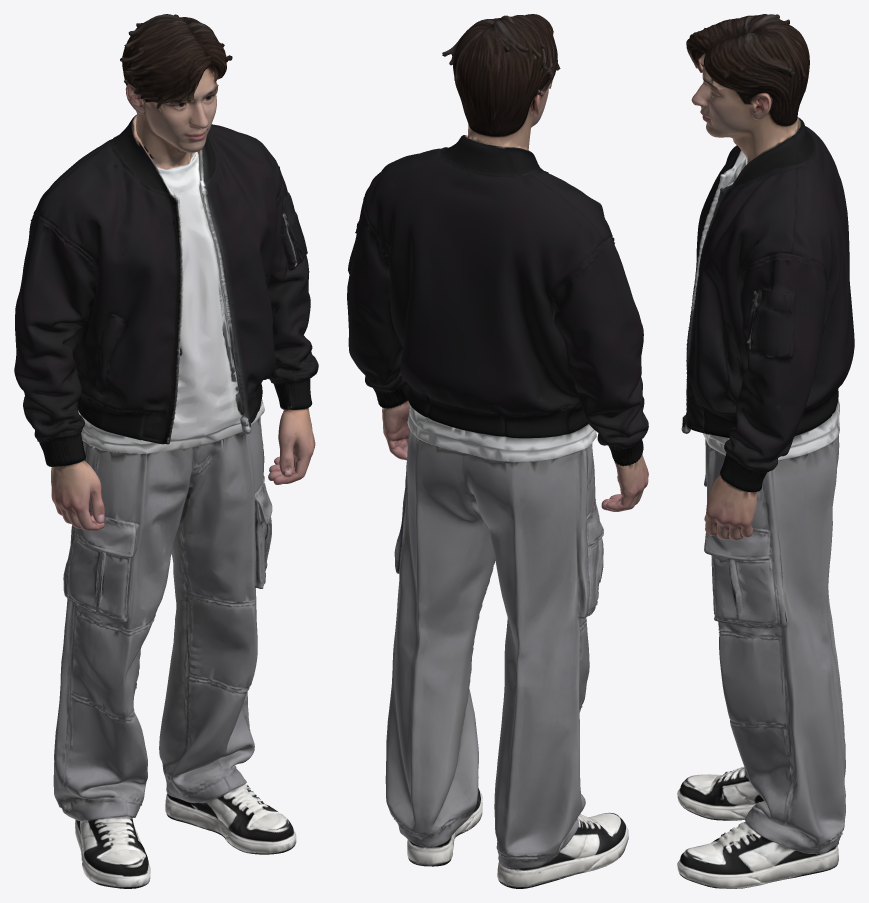
File: male-street.glb
The picture shows the model from 3 angles, left to right: view 1: azimuth 30°, elevation 25°; view 2: azimuth 150°, elevation 25°; view 3: azimuth 270°, elevation 25°; orthographic projection.
Parts seen in each view (by area): view 1: Dada_male_street_complete_outfit; view 2: Dada_male_street_complete_outfit; view 3: Dada_male_street_complete_outfit.
Boxes of the visible parts, bbox=[...] form: Dada_male_street_complete_outfit: bbox=[14, 14, 318, 888]; Dada_male_street_complete_outfit: bbox=[347, 14, 648, 888]; Dada_male_street_complete_outfit: bbox=[677, 14, 854, 888].
Bounding box in the file's own units: 0.355 × 0.9812 × 0.1908.
Materials: 1 (1 with a texture image).
